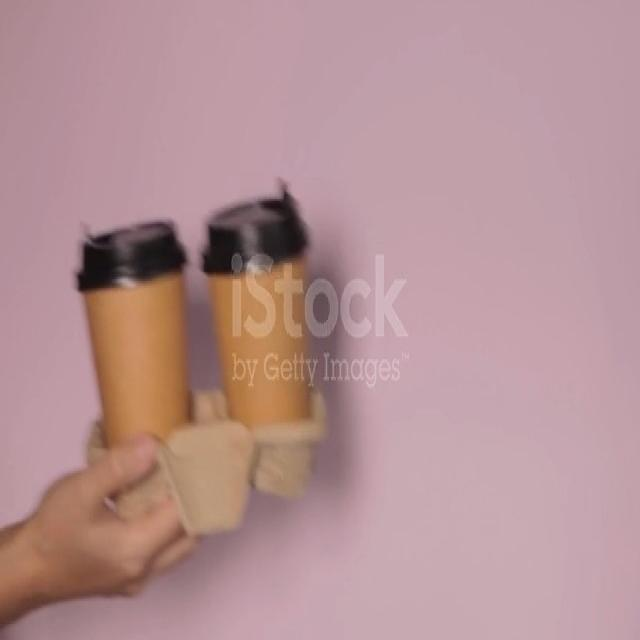cup: (76, 220, 192, 448), (200, 198, 311, 426)
